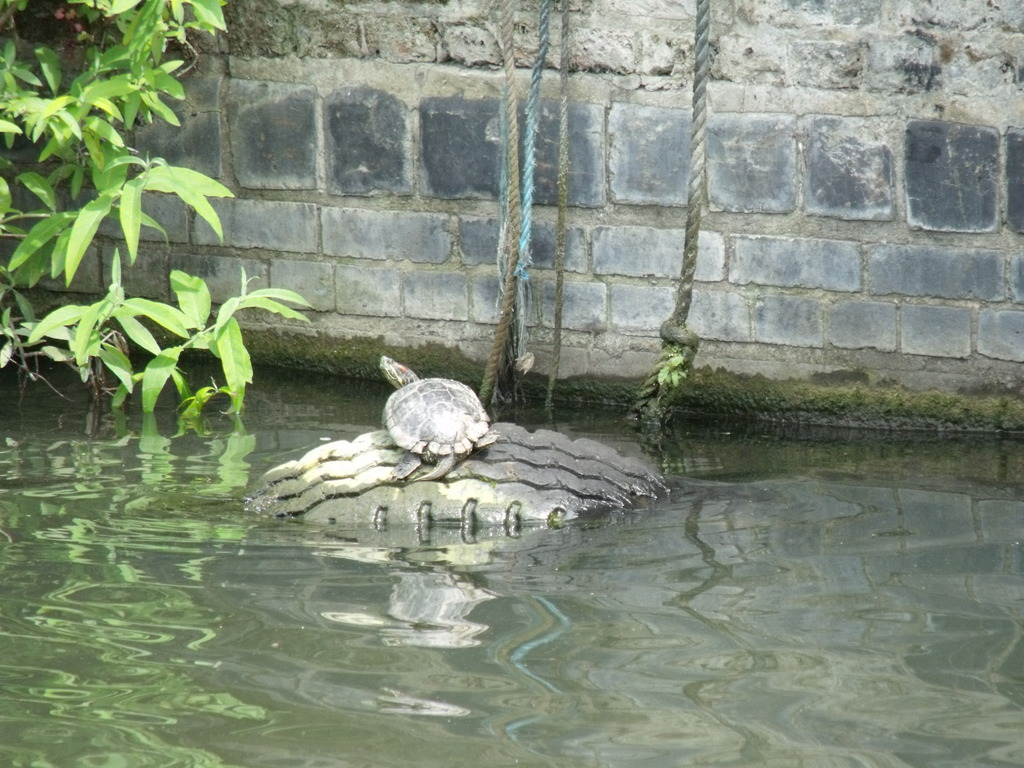Sea turtles: (376, 354, 499, 483)
